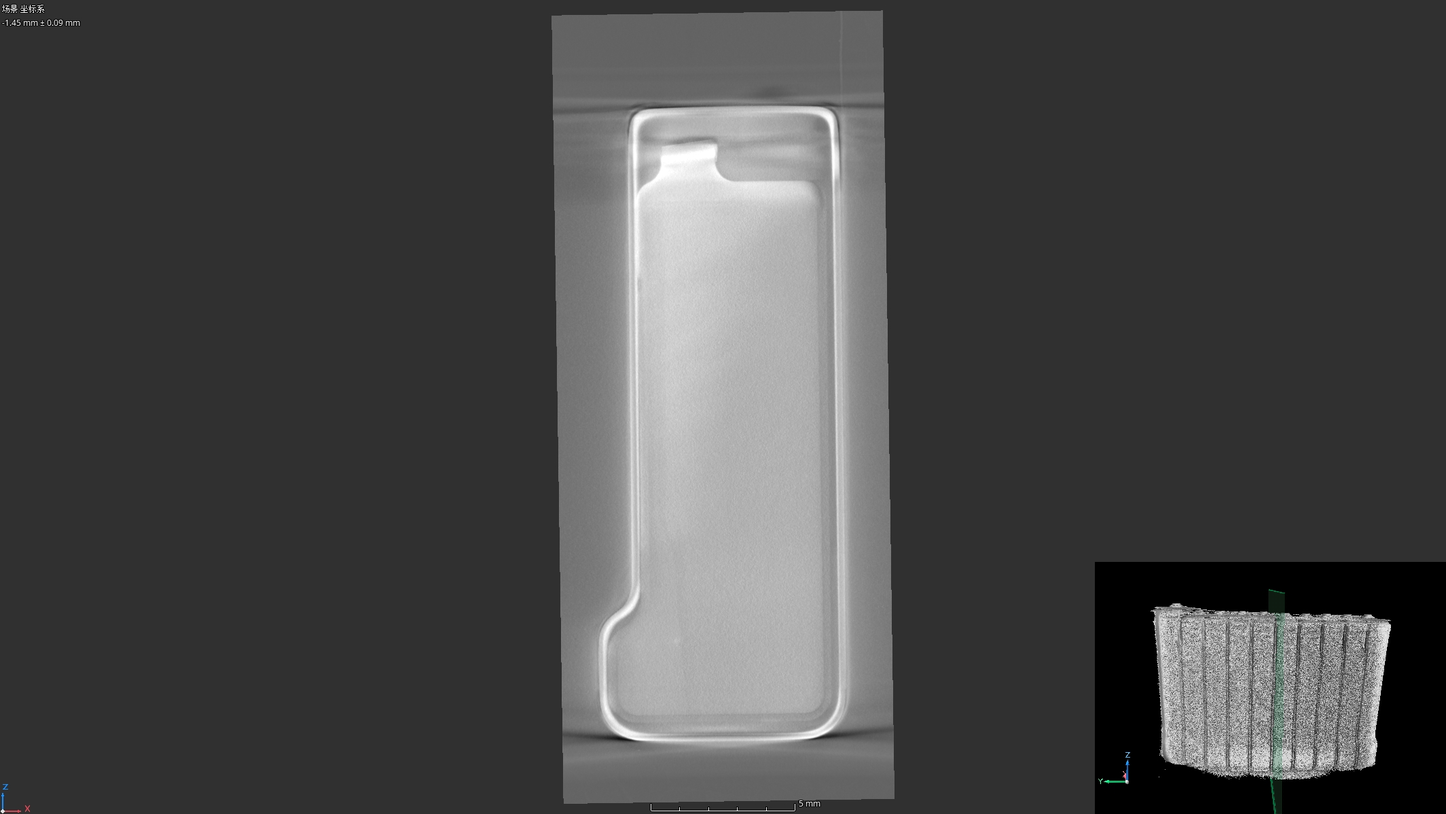damage: (636, 269, 646, 296)
light: (670, 637, 685, 649)
